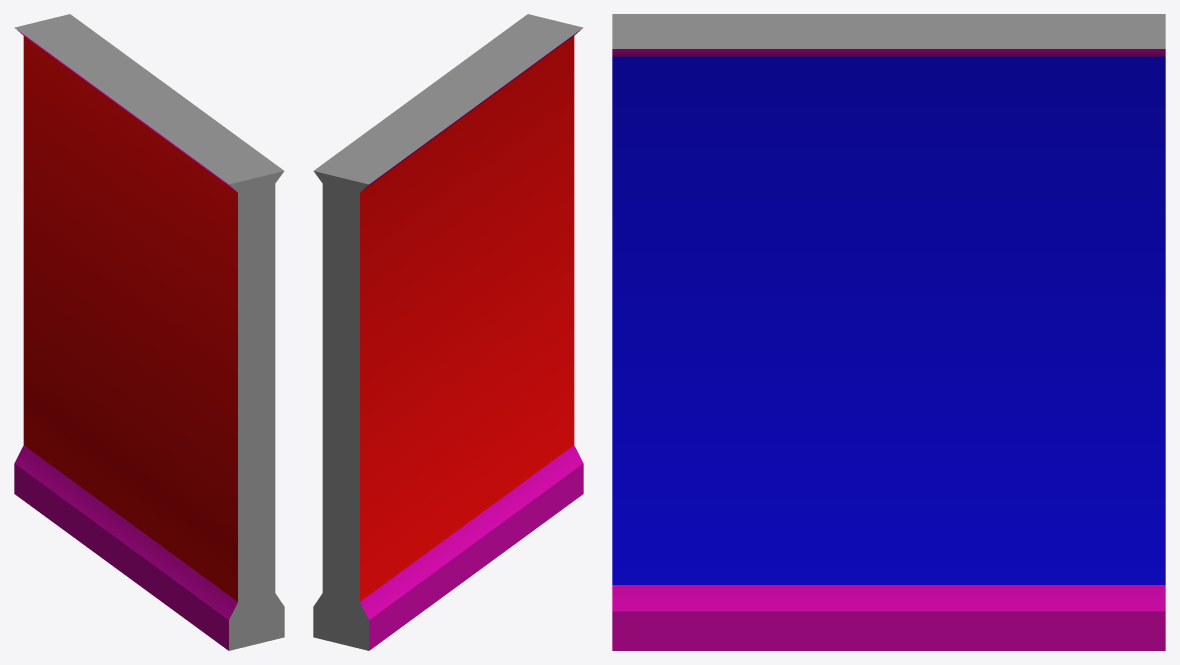
The model's file is ModularWallFinal.FBX.
3 renders of one model, left to right at view 1: azimuth 30°, elevation 25°; view 2: azimuth 150°, elevation 25°; view 3: azimuth 270°, elevation 25°, orthographic. The views are drawn at different scales.
Visible parts, largest first — view 1: ModularWall; view 2: ModularWall; view 3: ModularWall.
Part boxes in pixels (box(x1,y1,x2,y2)): ModularWall: box(14, 14, 284, 650); ModularWall: box(313, 14, 583, 650); ModularWall: box(612, 14, 1165, 650).
Bounding box in the file's own units: 15 × 120 × 100.
